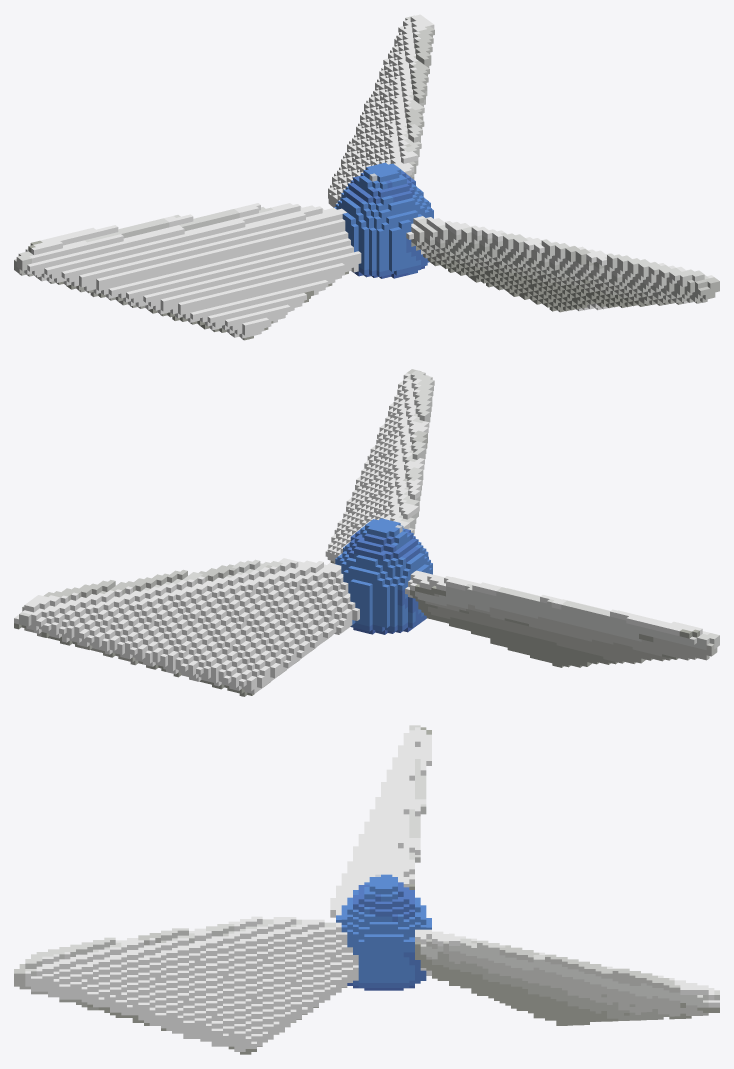
File: pan1.FBX
3 renders of one model, top to bottom at view 1: azimuth 30°, elevation 25°; view 2: azimuth 150°, elevation 25°; view 3: azimuth 270°, elevation 25°, orthographic.
Visible parts, largest first — view 1: default005; view 2: default005; view 3: default005.
Part boxes in pixels (x1,y1,x2,y2): default005: (14, 14, 719, 340); default005: (14, 369, 719, 696); default005: (14, 725, 719, 1054).
Size of the model in its own units: 2273 by 459 by 2492.
